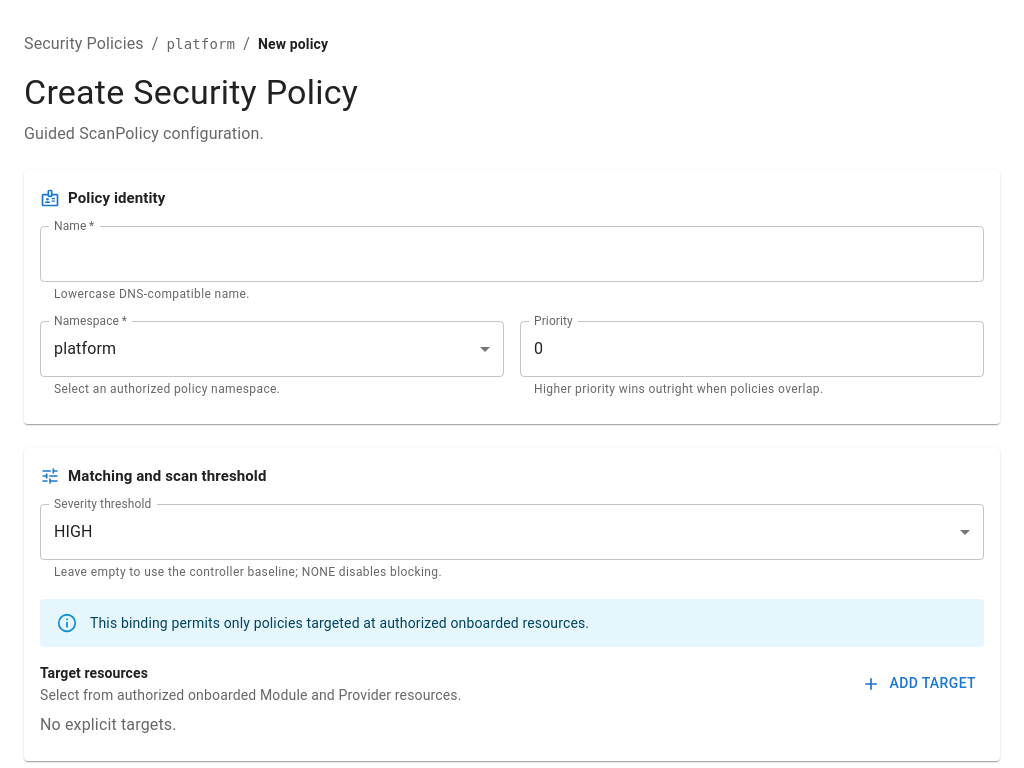
Test case: SecurityPoliciesSurface › only exposes catalog resources and hides selector editing for scoped operators
expect the text "only policies targeted" is shown: met, box [90,615,589,631]
Step 1. Click the button "Add target" → (921, 684), box [858,666,984,702]
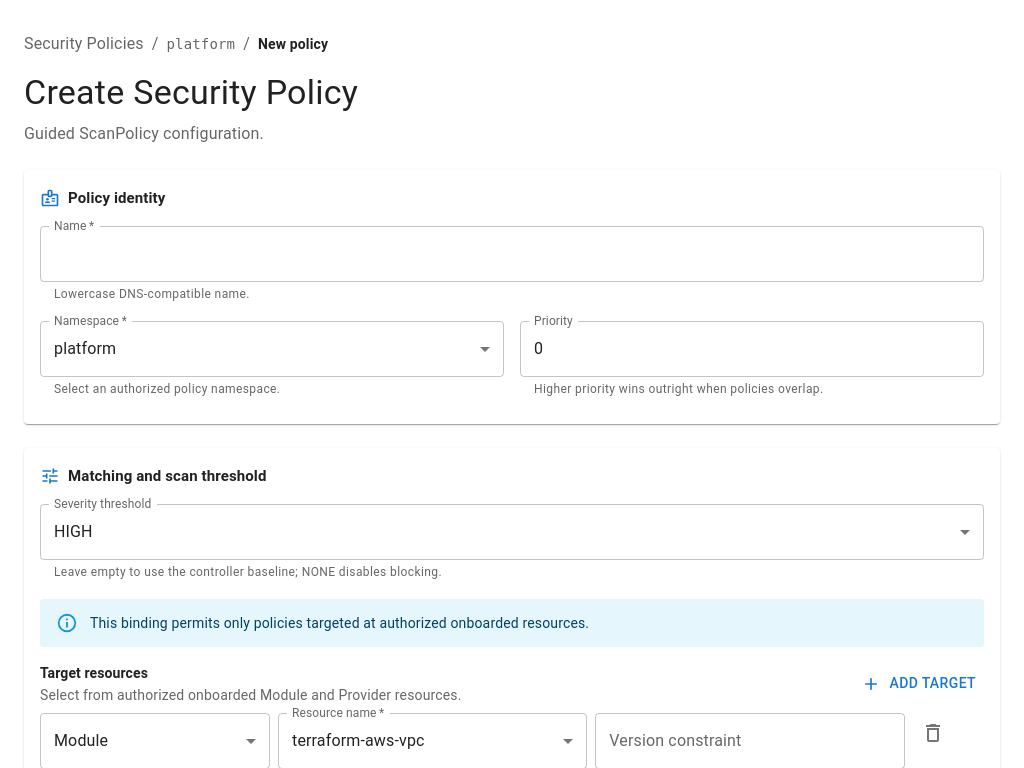
expect the dropdown "terraform-aws-vpc" is shown: met, box [292,731,425,750]
